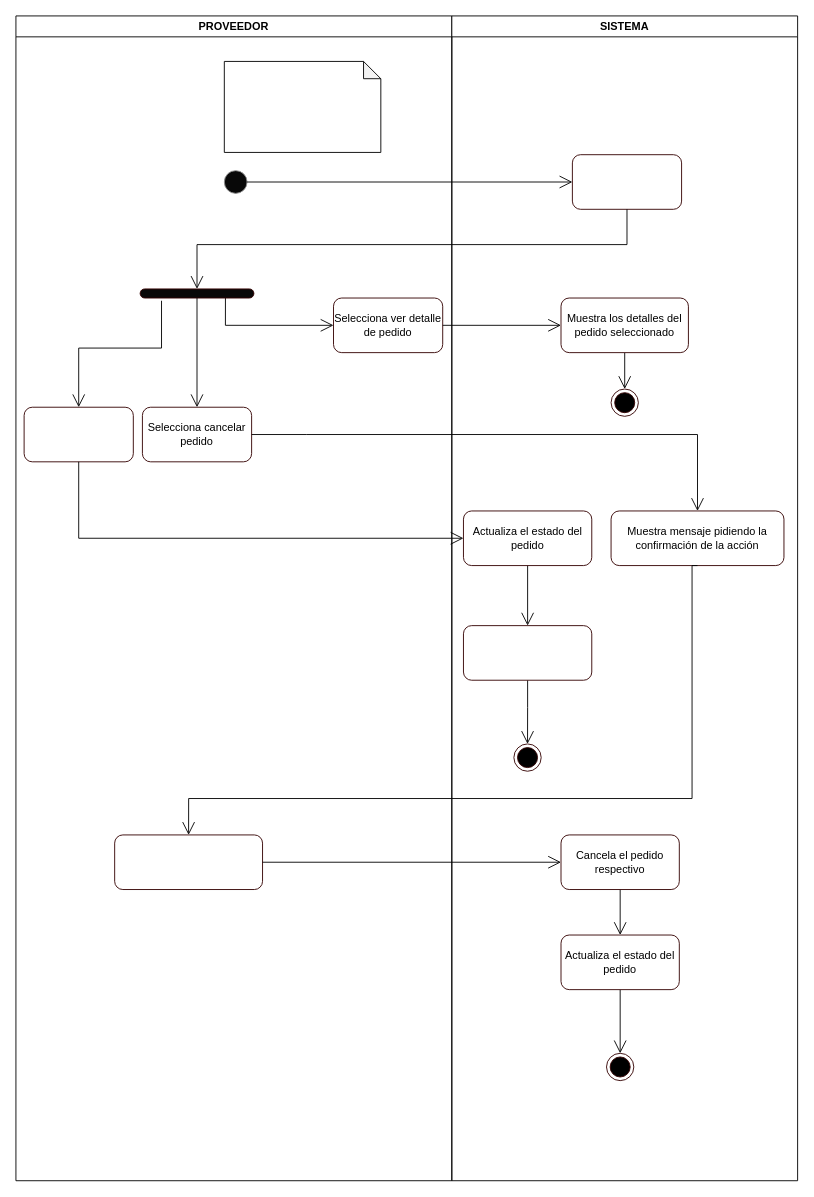
Image size: 814x1197. Some labels were removed from this diagram. The centre of each missing label's shape, as x and y in pixels:
Confirma la realización de la acción: (188,862)
Este flujo se inicia cuando el proveedor selecciona lista de pedidos: (302,106)
Muestra interfaz "administración de pedidos": (626,181)
Muestra mensajde "Pedido aceptado con éxtio": (527,652)
Selecciona aceptar pedido: (78,434)
